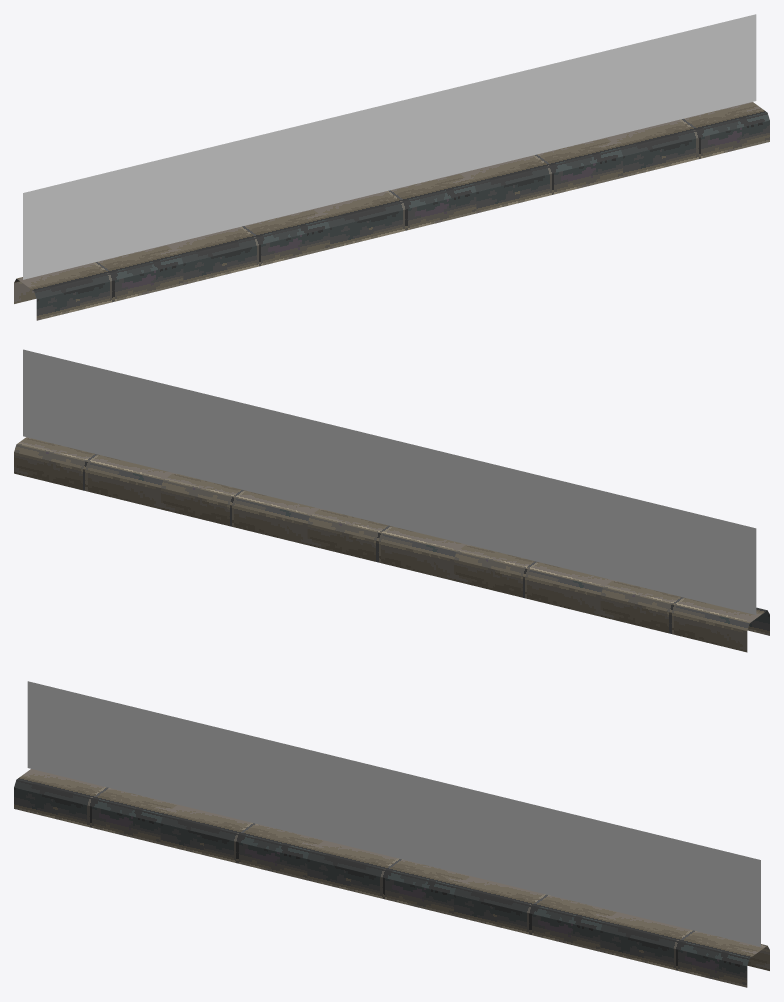
Rendered from road_wall_10x10.fbx.
3 views of the same model, one above another, from view 1: azimuth 30°, elevation 25°; view 2: azimuth 150°, elevation 25°; view 3: azimuth 330°, elevation 25° (orthographic).
Visible parts, largest first — view 1: Cube.001, Cube.002; view 2: Cube.001, Cube.002; view 3: Cube.001, Cube.002.
Boxes of the visible parts, x1,y1,x2,y2 form: Cube.001: [23, 14, 756, 279]; Cube.002: [14, 102, 769, 320]; Cube.001: [23, 349, 756, 614]; Cube.002: [14, 437, 769, 652]; Cube.001: [27, 681, 760, 946]; Cube.002: [14, 769, 769, 987].
Bounding box in the file's own units: 1000 × 153 × 53.54.
2 materials, 1 textured.
